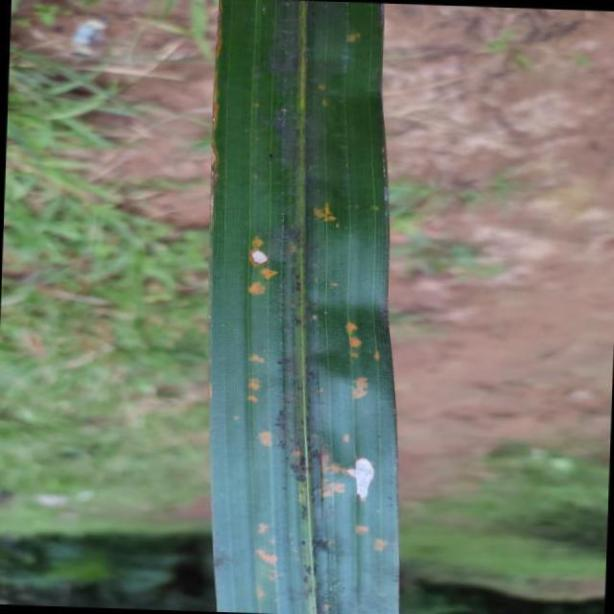Kalium: (202, 0, 398, 614)
